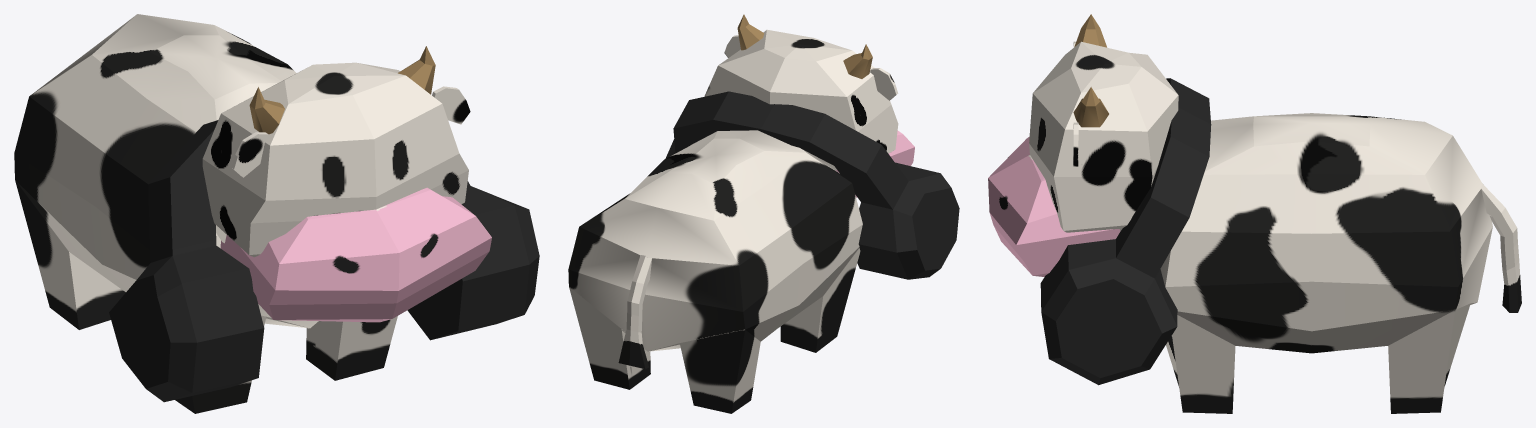
Rendered from cow.glb.
3 renders of one model, left to right at view 1: azimuth 30°, elevation 25°; view 2: azimuth 150°, elevation 25°; view 3: azimuth 270°, elevation 25°, orthographic. The views are drawn at different scales.
Visible parts, largest first — view 1: Cow, Headphones; view 2: Cow, Headphones; view 3: Cow, Headphones.
Part boxes in pixels (bbox=[...]): Cow: bbox=[14, 14, 491, 413]; Headphones: bbox=[109, 120, 539, 402]; Cow: bbox=[568, 14, 914, 413]; Headphones: bbox=[665, 91, 959, 279]; Cow: bbox=[988, 14, 1521, 413]; Headphones: bbox=[1040, 78, 1211, 385].
Size of the model in its own units: 4.02 by 3.75 by 5.6.
Materials: 2 (1 with a texture image).
